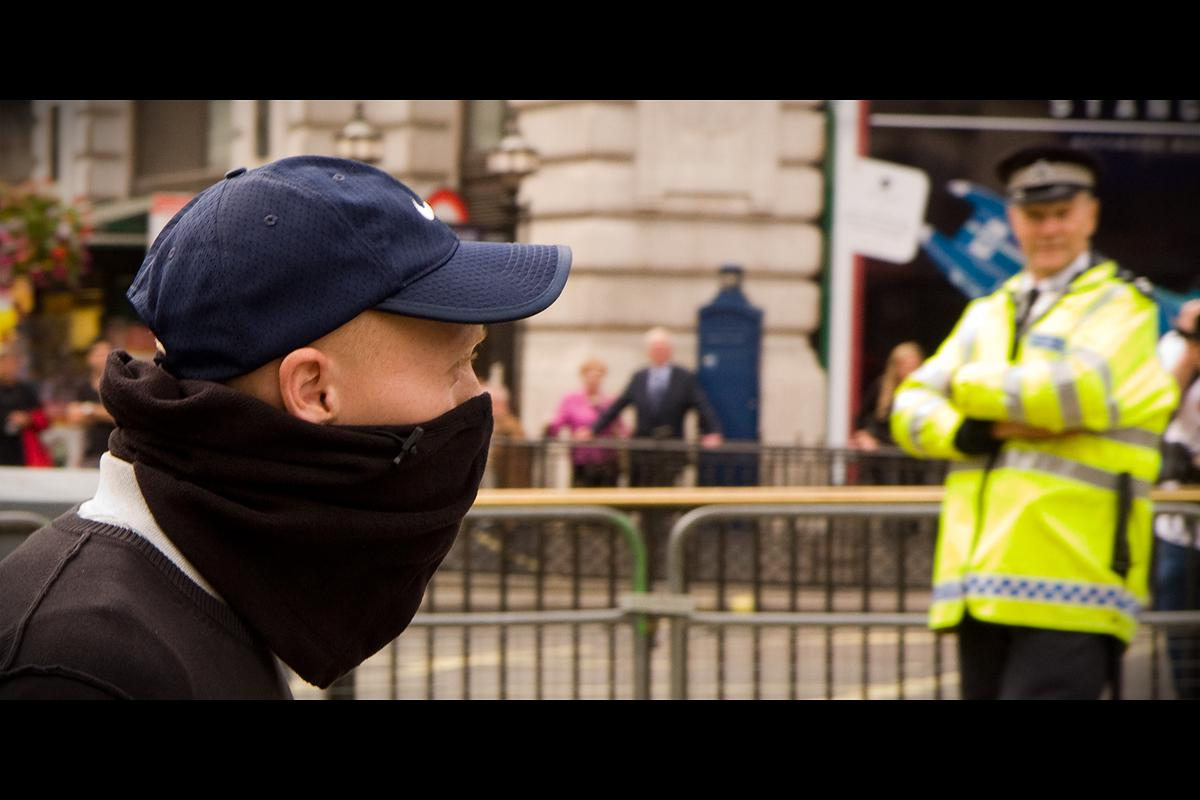NONE: (1020, 205, 1083, 269)
OK: (274, 339, 517, 548)
